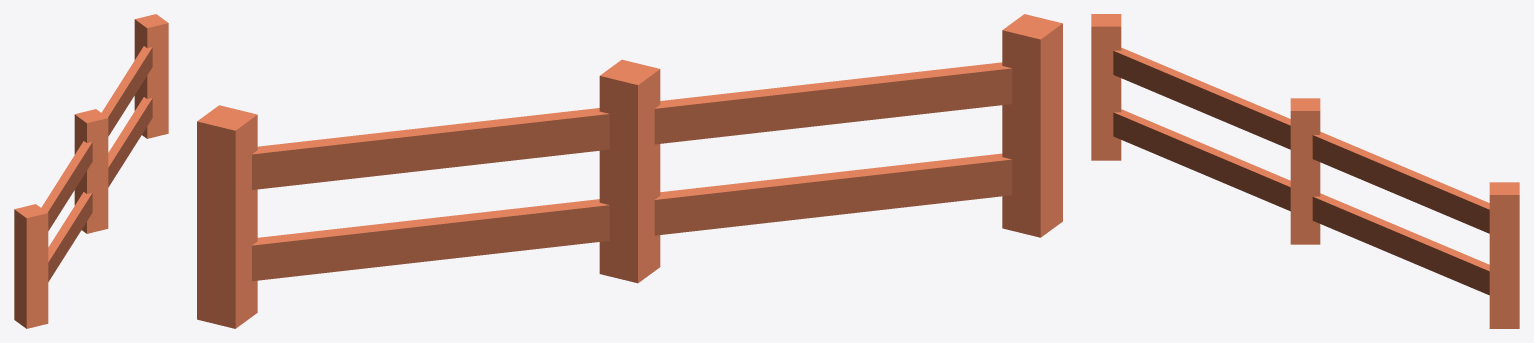
The model's file is fence_simpleDiagonalCenter.dae.
The picture shows the model from 3 angles, left to right: view 1: azimuth 30°, elevation 25°; view 2: azimuth 150°, elevation 25°; view 3: azimuth 270°, elevation 25°; orthographic projection. The views are drawn at different scales.
Parts seen in each view (by area): view 1: fence_simpleDiagonalCenter; view 2: fence_simpleDiagonalCenter; view 3: fence_simpleDiagonalCenter.
Part boxes in pixels (x1,y1,x2,y2): fence_simpleDiagonalCenter: [14, 14, 168, 328]; fence_simpleDiagonalCenter: [197, 14, 1062, 328]; fence_simpleDiagonalCenter: [1091, 14, 1519, 328].
Size of the model in its own units: 1 by 0.345 by 1.
